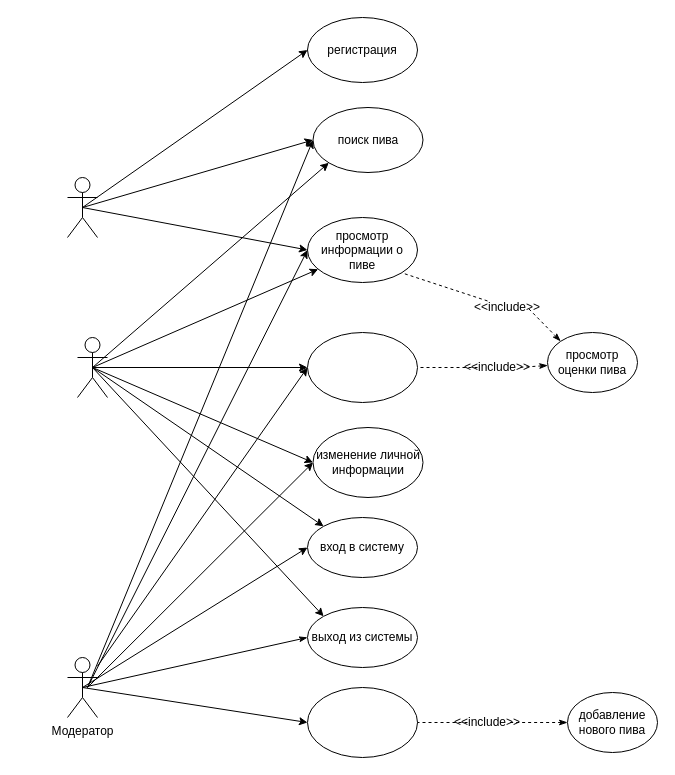
This 675x775 diagram has some shape labels left out. Each missing label, with the centre of its shape:
Зарегистрированный пользователь: the point at 92,367
изменение внутренней информации: the point at 362,722
Незарегистрированный пользователь: the point at 82,207
поставить оценку пиву: the point at 362,367
